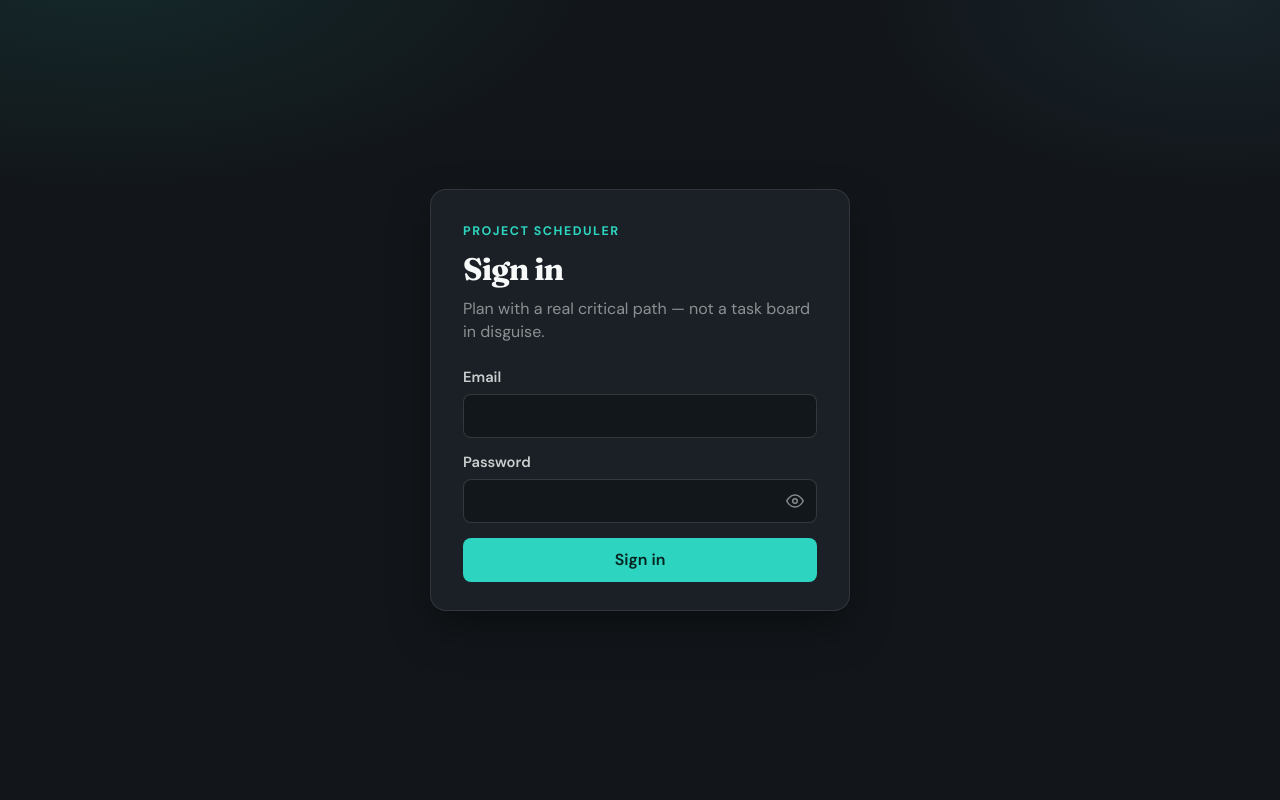
Test: LoginPage › shows an error when login fails
The width and height of the screenshot is (1280, 800).
Type "admin@example.com" into the field labelled "Email". click: (640, 416)
box: [463,394,817,438]
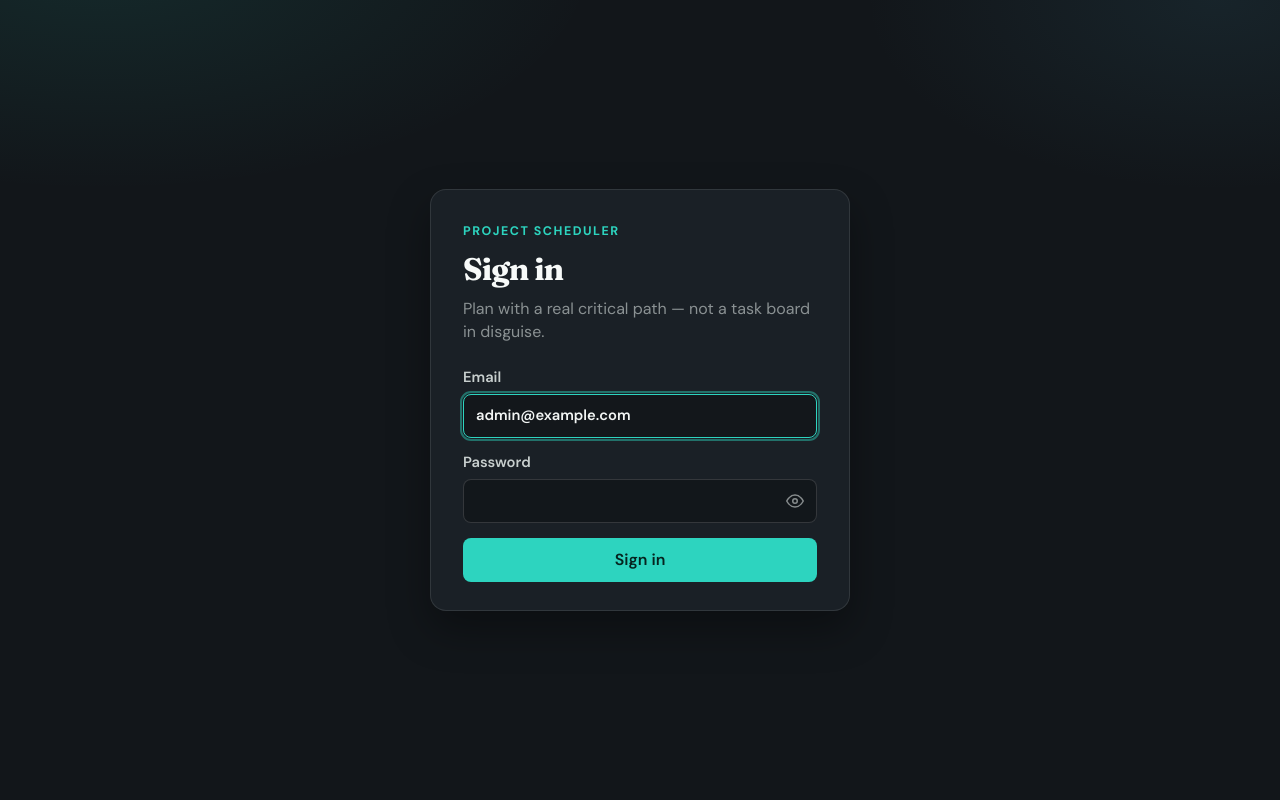
Type "wrong" into the password field labelled "Password". click: (640, 501)
box: [463,479,817,524]
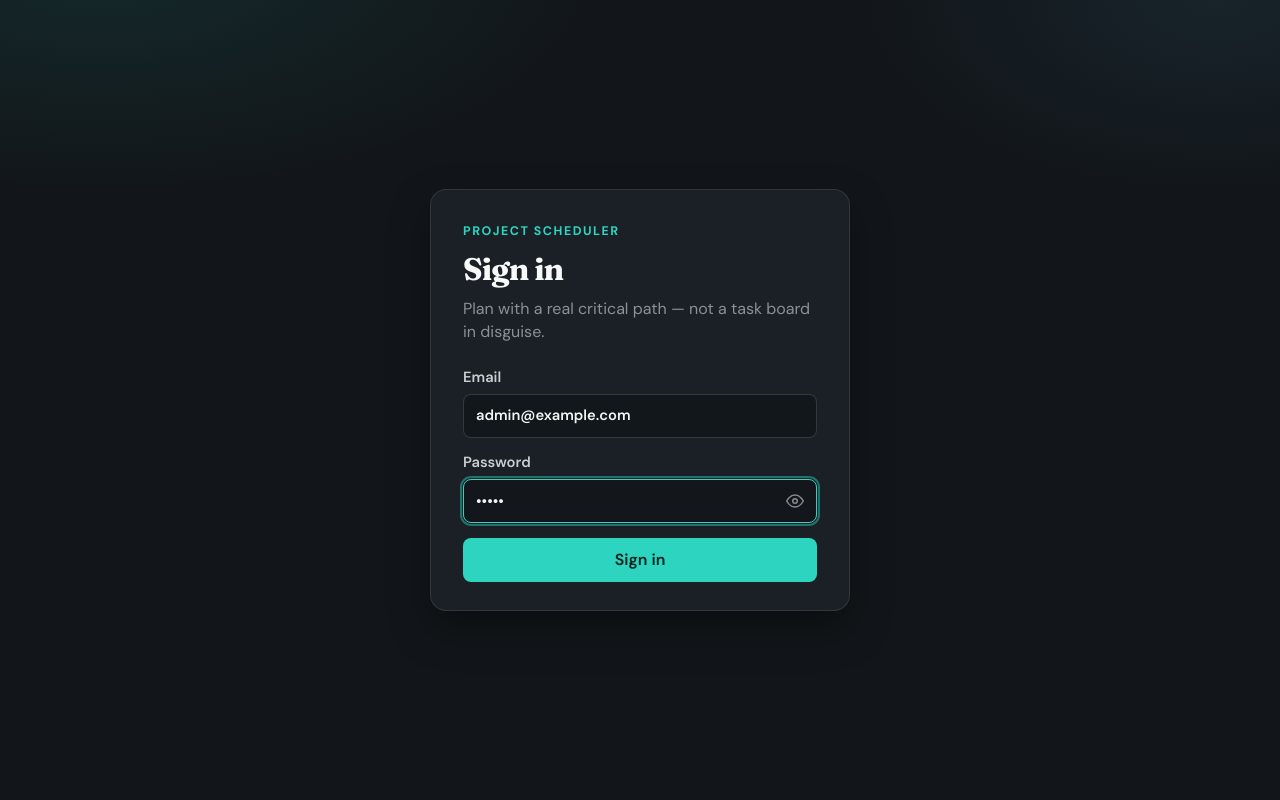
Click the button "Sign in". click: (640, 560)
box: [463,538,817,582]
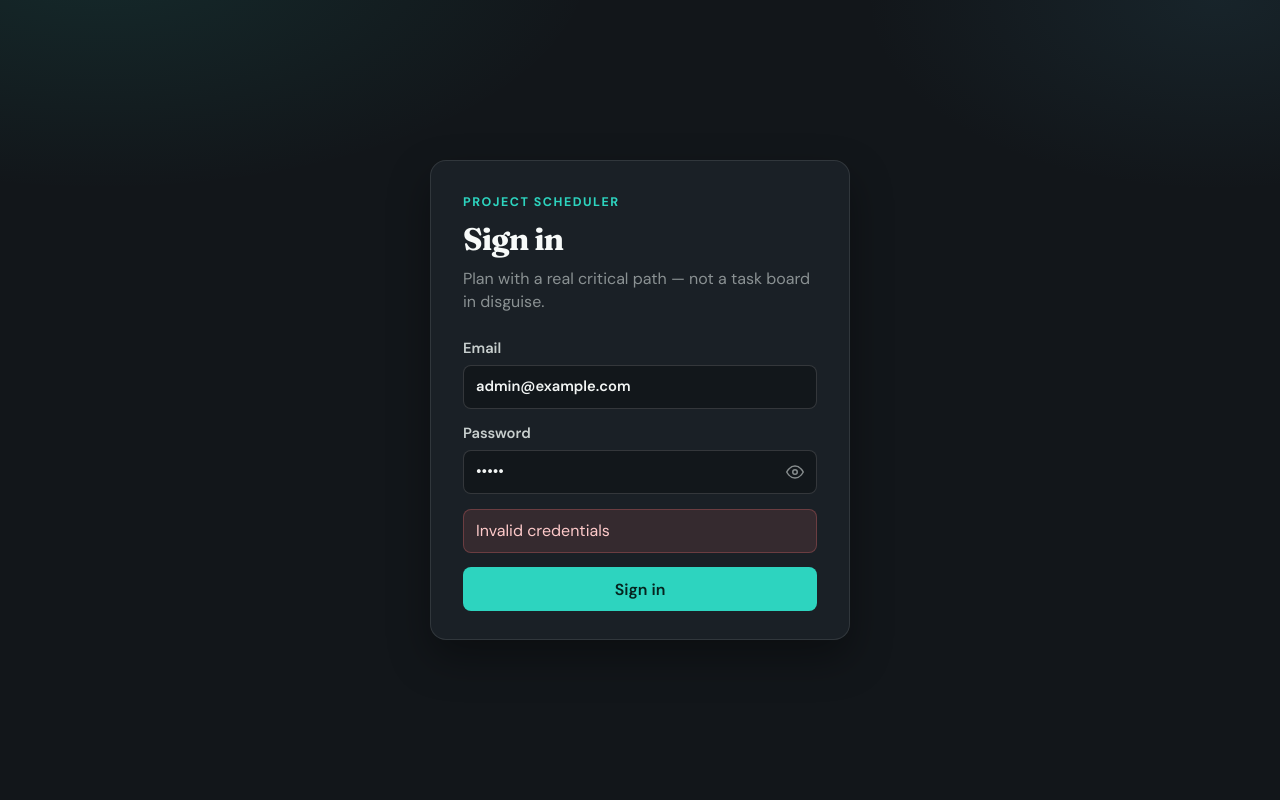
Expected: the message reads "Invalid credentials", [476,520,610,541]
